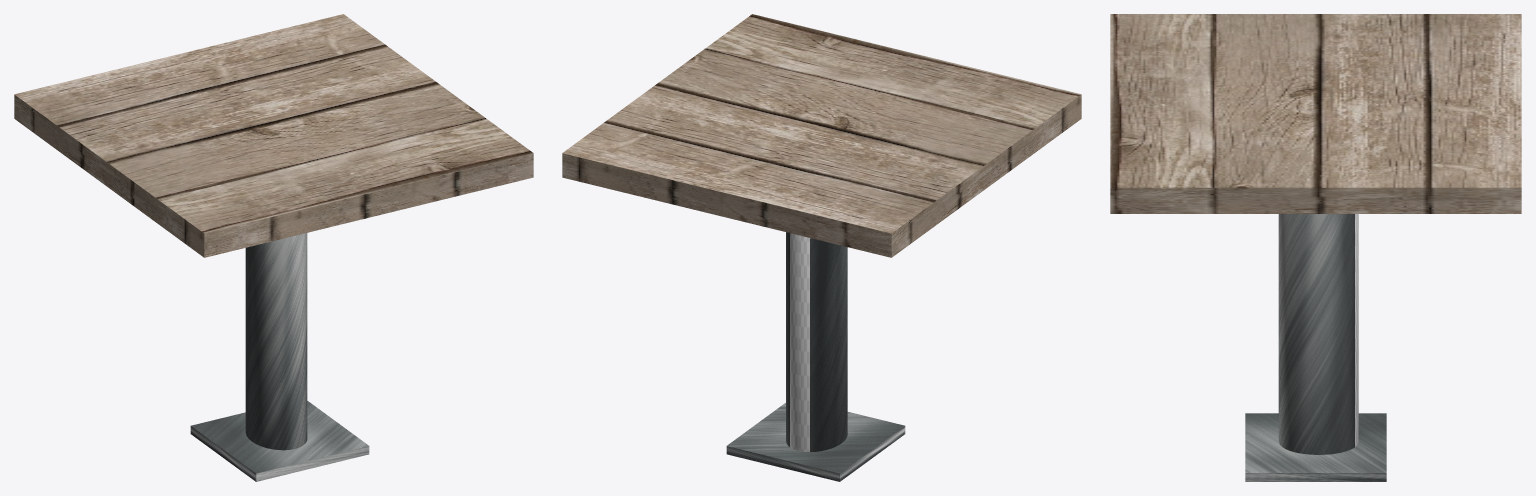
Rendered from mesa.obj.
The picture shows the model from 3 angles, left to right: view 1: azimuth 30°, elevation 25°; view 2: azimuth 150°, elevation 25°; view 3: azimuth 270°, elevation 25°; orthographic projection. The views are drawn at different scales.
Visible parts, largest first — view 1: Cubo, Cilindro, Cubo.001; view 2: Cubo, Cilindro, Cubo.001; view 3: Cubo, Cilindro, Cubo.001.
Boxes of the visible parts, <box> form: Cubo: <box>14,14,533,257</box>; Cilindro: <box>245,233,307,450</box>; Cubo.001: <box>190,401,369,481</box>; Cubo: <box>562,14,1081,257</box>; Cilindro: <box>786,232,847,451</box>; Cubo.001: <box>726,403,905,481</box>; Cubo: <box>1110,14,1521,213</box>; Cilindro: <box>1278,214,1358,454</box>; Cubo.001: <box>1245,413,1386,481</box>.
Size of the model in its own units: 2.44 by 2.28 by 2.44.
2 materials, 2 textured.
